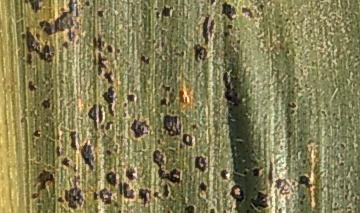tarspot: (37, 1, 83, 37), (24, 25, 56, 65), (150, 147, 183, 185), (28, 170, 57, 198), (61, 182, 85, 209), (128, 113, 150, 140), (78, 139, 95, 172), (101, 85, 116, 118), (249, 190, 270, 211), (162, 114, 182, 136), (221, 69, 234, 102), (91, 51, 108, 76), (116, 181, 135, 201), (227, 183, 246, 203), (220, 1, 238, 22), (273, 175, 291, 196), (200, 13, 211, 46), (90, 31, 107, 52), (192, 42, 208, 63), (87, 102, 98, 132), (192, 154, 209, 173), (296, 171, 313, 190), (137, 186, 152, 207), (98, 185, 113, 205), (162, 180, 176, 201), (96, 102, 105, 132), (123, 164, 138, 182), (266, 160, 275, 189), (68, 128, 78, 154), (24, 1, 43, 14), (180, 132, 196, 147), (240, 4, 255, 20), (103, 170, 117, 187), (160, 3, 174, 19), (177, 88, 189, 106), (173, 48, 186, 63), (103, 69, 114, 86), (207, 16, 215, 38), (138, 53, 151, 66), (57, 155, 70, 167), (69, 174, 82, 186), (249, 165, 261, 178), (296, 192, 308, 205), (66, 28, 77, 42), (158, 96, 172, 107), (218, 166, 229, 180), (182, 203, 197, 213), (40, 98, 52, 110), (197, 179, 208, 192), (104, 118, 114, 132), (152, 5, 161, 20), (27, 80, 37, 93), (60, 39, 70, 51), (125, 93, 137, 103), (152, 190, 163, 200), (24, 53, 33, 65), (168, 92, 176, 105), (159, 83, 172, 91), (95, 8, 105, 18), (32, 129, 42, 139), (91, 188, 98, 201), (19, 116, 29, 125), (56, 193, 65, 203), (55, 144, 61, 158), (189, 121, 198, 130), (106, 44, 114, 54), (285, 128, 293, 138), (286, 101, 297, 108), (78, 3, 87, 11), (33, 197, 45, 203), (103, 147, 111, 156), (93, 203, 100, 213), (59, 5, 67, 13), (112, 200, 120, 208), (191, 168, 199, 176), (276, 205, 284, 213), (45, 163, 54, 170), (71, 164, 78, 173), (179, 194, 186, 203), (258, 2, 265, 11), (35, 31, 41, 41), (82, 1, 92, 7), (206, 207, 216, 213), (204, 1, 216, 6), (34, 156, 42, 163), (115, 47, 122, 55), (223, 30, 230, 38), (289, 180, 297, 187), (288, 109, 297, 115), (75, 39, 82, 46), (121, 101, 128, 108), (226, 22, 233, 29), (242, 168, 249, 175), (35, 204, 43, 210), (176, 10, 182, 18), (156, 137, 162, 145), (236, 38, 242, 46), (220, 207, 228, 213), (339, 144, 347, 150), (112, 147, 119, 153), (156, 127, 163, 133), (151, 38, 157, 45), (244, 206, 250, 213), (20, 32, 25, 40), (252, 184, 257, 192), (121, 112, 127, 118), (299, 207, 305, 213), (339, 161, 345, 167), (339, 184, 345, 190), (100, 123, 105, 130), (171, 86, 176, 93), (170, 110, 177, 115), (31, 144, 37, 149), (125, 61, 130, 67), (133, 183, 138, 189), (178, 143, 183, 149), (331, 112, 337, 117), (332, 201, 339, 205), (166, 208, 171, 213), (185, 15, 189, 21), (343, 193, 347, 199), (333, 207, 337, 213)
